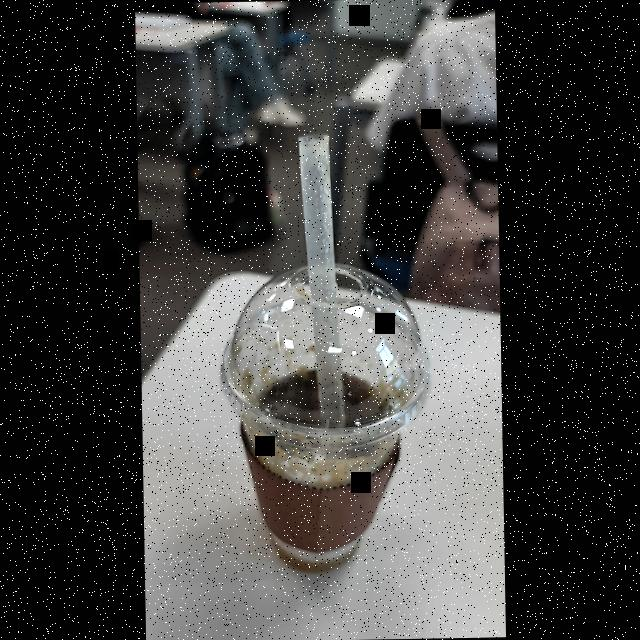plastic_cup: (210, 262, 438, 580)
plastic_cup_lid: (218, 260, 436, 450)
straw: (298, 130, 348, 434)
